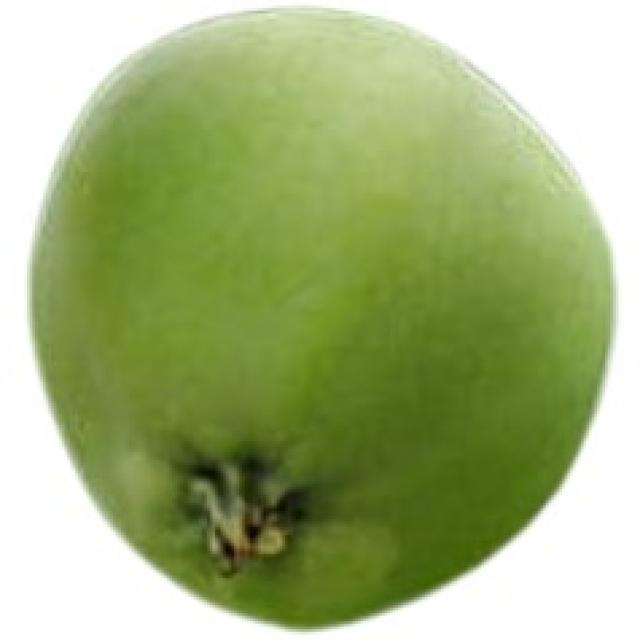50-_ripeness: (35, 12, 614, 617)
